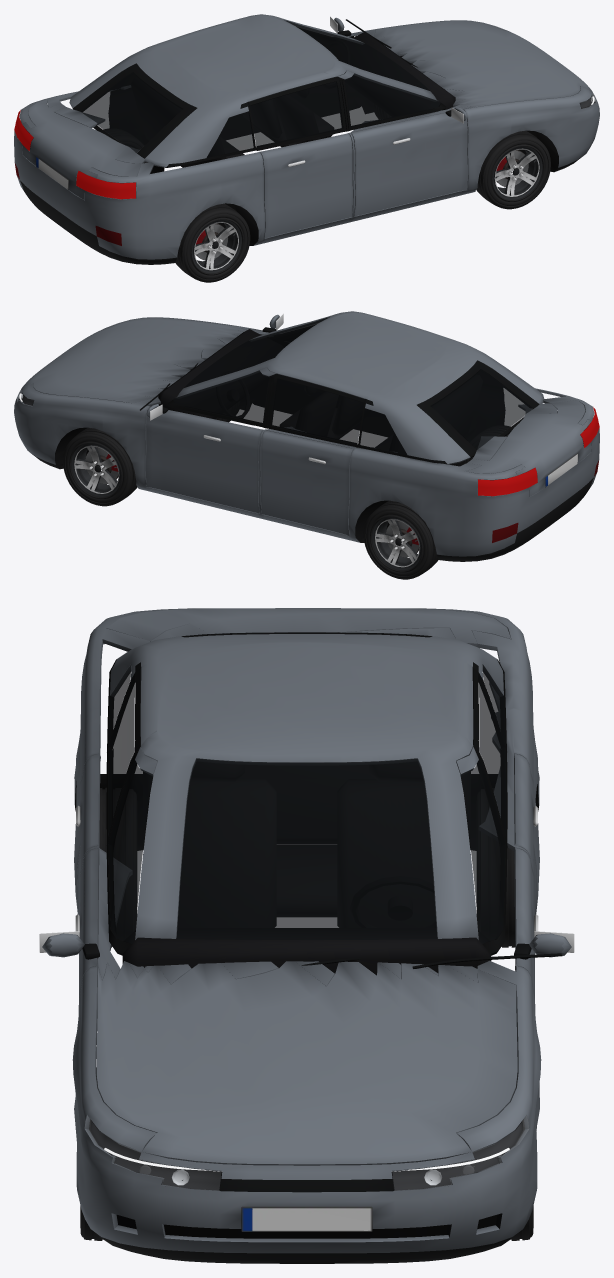
The model's file is car_sedan-lo-v1.glb.
The picture shows the model from 3 angles, top to bottom: view 1: azimuth 30°, elevation 25°; view 2: azimuth 150°, elevation 25°; view 3: azimuth 270°, elevation 25°; orthographic projection. The views are drawn at different scales.
Visible parts, largest first — view 1: body_geo, interior_geo, hood_panel_geo, door_FR_panel_geo, door_RR_panel_geo, trunk_panel_geo, glass_rear_geo, glass_RR_geo, glass_FR_geo, glass_front_geo, tyre_FR_geo, tyre_RR_geo (+5 smaller); view 2: body_geo, interior_geo, hood_panel_geo, door_FL_panel_geo, door_RL_panel_geo, trunk_panel_geo, glass_rear_geo, glass_RL_geo, glass_FL_geo, glass_front_geo, tyre_FL_geo, tyre_RL_geo (+4 smaller); view 3: body_geo, hood_panel_geo, interior_geo, glass_front_geo, trunk_panel_geo, lights_front_geo, glass_FL_geo, glass_FR_geo, door_FL_panel_geo, door_FR_panel_geo, tyre_RL_geo, door_RR_panel_geo (+6 smaller).
Part boxes in pixels (x1,y1,x2,y2): body_geo: [14, 14, 599, 264]; interior_geo: [24, 27, 590, 206]; hood_panel_geo: [373, 21, 591, 109]; door_FR_panel_geo: [337, 70, 467, 216]; door_RR_panel_geo: [248, 77, 352, 238]; trunk_panel_geo: [22, 99, 141, 200]; glass_rear_geo: [81, 72, 182, 152]; glass_RR_geo: [249, 81, 343, 147]; glass_FR_geo: [344, 73, 440, 126]; glass_front_geo: [285, 20, 429, 90]; tyre_FR_geo: [476, 130, 550, 209]; tyre_RR_geo: [175, 203, 250, 282]; body_geo: [14, 311, 599, 561]; interior_geo: [21, 325, 588, 503]; hood_panel_geo: [22, 318, 252, 403]; door_FL_panel_geo: [146, 367, 276, 513]; door_RL_panel_geo: [261, 374, 365, 535]; trunk_panel_geo: [464, 400, 591, 497]; glass_rear_geo: [431, 369, 532, 449]; glass_RL_geo: [270, 378, 364, 444]; glass_FL_geo: [173, 370, 269, 423]; glass_front_geo: [184, 317, 328, 387]; tyre_FL_geo: [63, 427, 137, 506]; tyre_RL_geo: [363, 500, 438, 579]; body_geo: [72, 608, 561, 1263]; hood_panel_geo: [96, 961, 517, 1165]; interior_geo: [122, 761, 491, 978]; glass_front_geo: [176, 758, 437, 939]; trunk_panel_geo: [106, 608, 510, 646]; lights_front_geo: [85, 1116, 528, 1190]; glass_FL_geo: [461, 760, 505, 943]; glass_FR_geo: [108, 760, 152, 943]; door_FL_panel_geo: [456, 747, 534, 997]; door_FR_panel_geo: [79, 747, 157, 998]; tyre_RL_geo: [476, 788, 515, 947]; door_RR_panel_geo: [77, 668, 141, 954].
Size of the model in its own units: 4.72 by 1.48 by 2.12.
26 materials, 1 textured.
